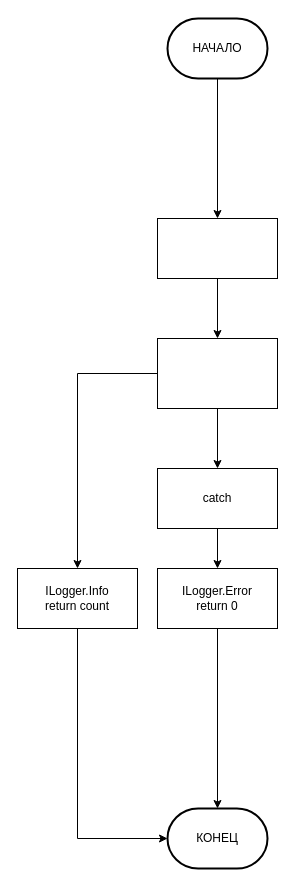
Image size: 295x886. Some labels were removed from this diagram. Each missing label, with the centre of its shape:
try: [217,248]
Получение количества сообщений по соответствию EmailStatus: [217,373]
